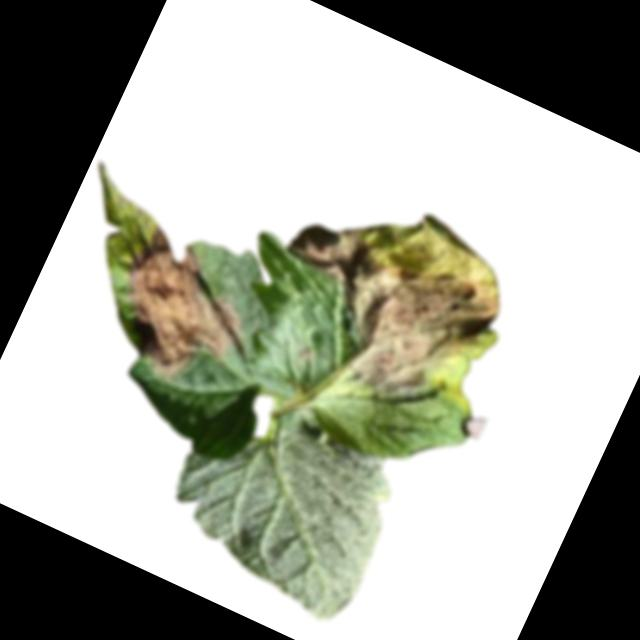Late_blight: (249, 164, 525, 420), (91, 220, 269, 402)
